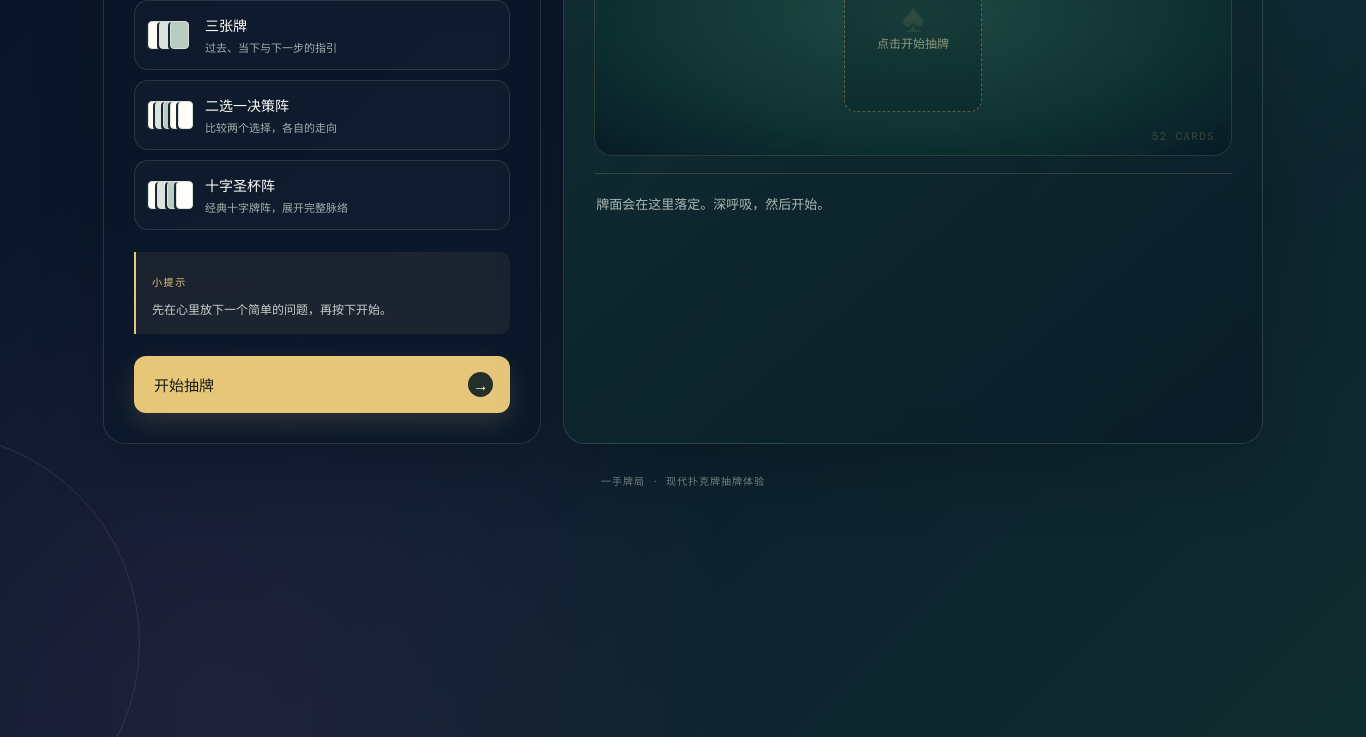
Test: 塔罗牌阵游戏 › 抽取单张牌，并可重新开始
(page scrolled)
Step 1. Click the button "开始抽牌 →" → [184, 384], box [134,356,510,412]
Wait 540 ms
(page scrolled)
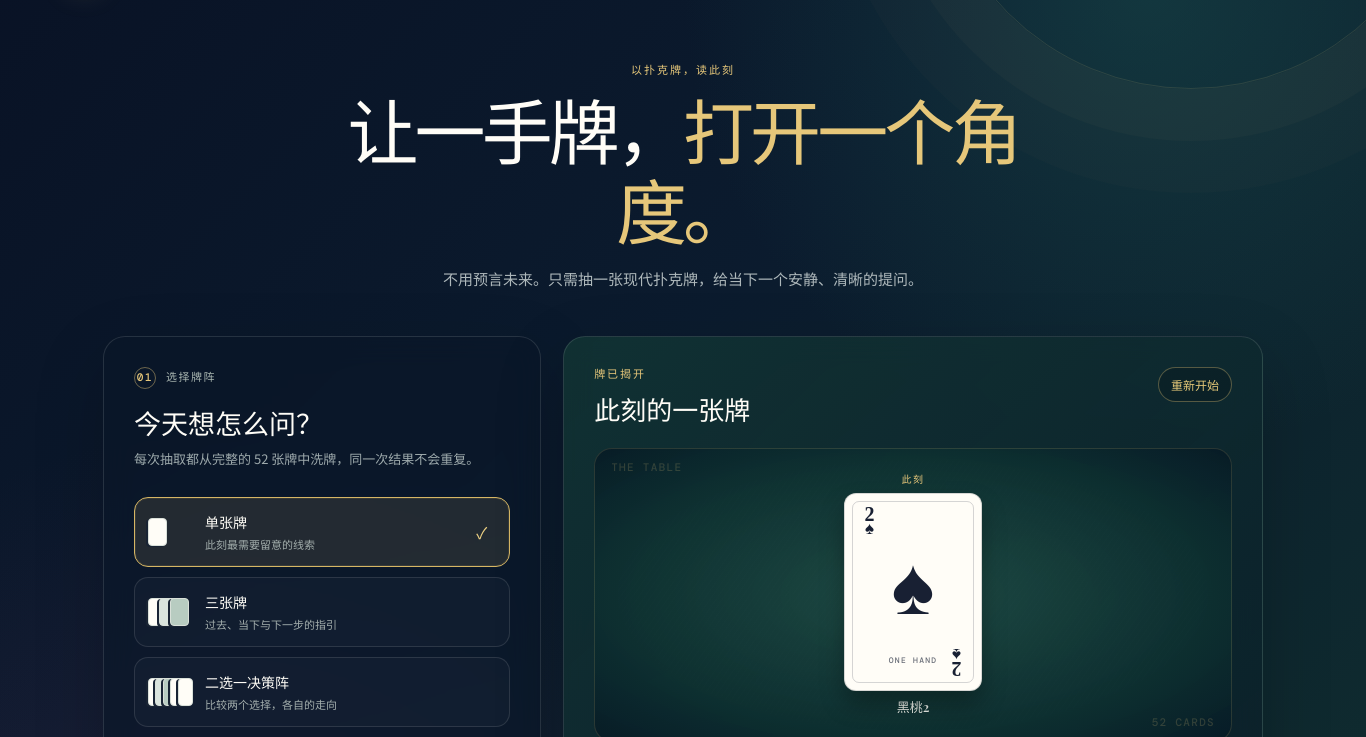
Check: the heading "此刻的一张牌" is shown, box [594,394,750,426]
Step 2. Click the button "重新开始" → [1195, 384], box [1158,367,1232,402]
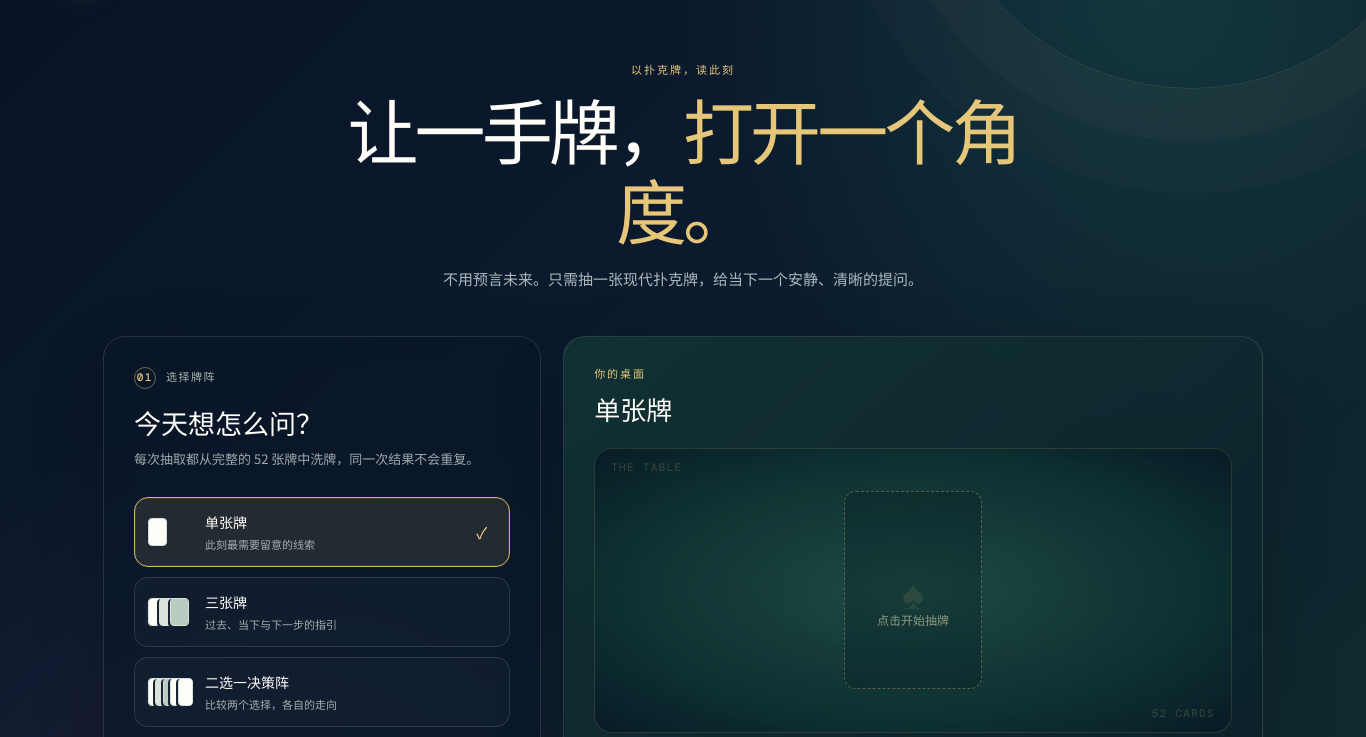
Check: the text "点击开始抽牌" is shown, box [877,610,949,628]
